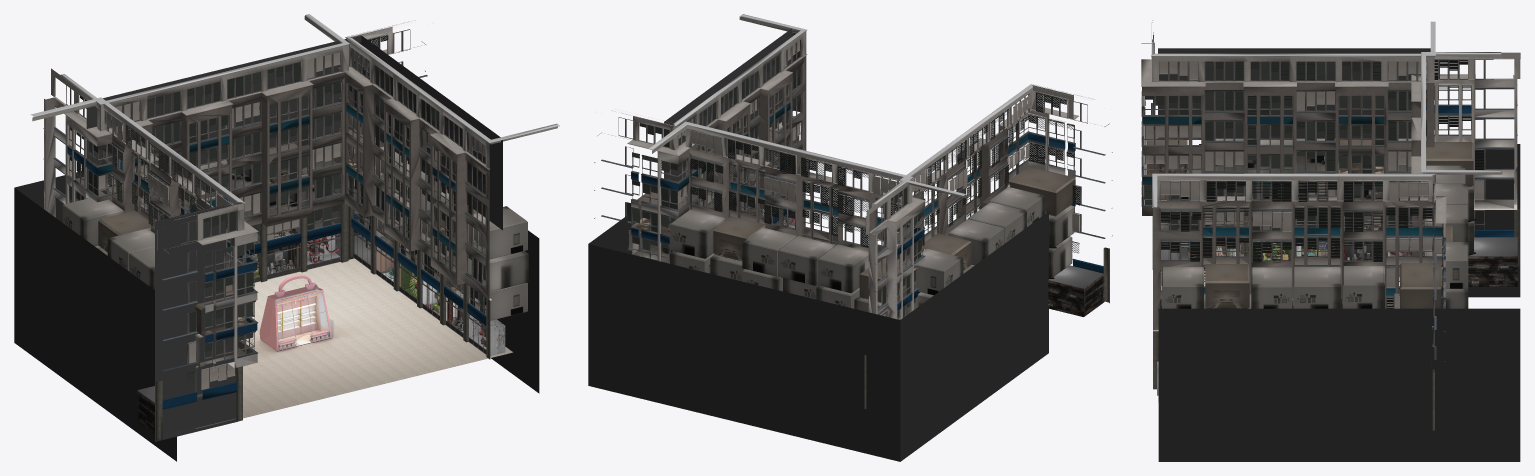
Rendered from Barbie clutch.glb.
The picture shows the model from 3 angles, left to right: view 1: azimuth 30°, elevation 25°; view 2: azimuth 150°, elevation 25°; view 3: azimuth 270°, elevation 25°; orthographic projection. The views are drawn at different scales.
Visible parts, largest first — view 1: AM229_interior_V3_099.002, polySurface58, pPlane1, room, polySurface66.002; view 2: AM229_interior_V3_099.002, polySurface58; view 3: AM229_interior_V3_099.002, polySurface58.
Boxes of the visible parts, box(x1,y1,x2,y2) form: AM229_interior_V3_099.002: box(31, 14, 559, 441); polySurface58: box(14, 145, 539, 461); pPlane1: box(241, 258, 512, 418); room: box(259, 274, 331, 351); polySurface66.002: box(277, 292, 329, 348); AM229_interior_V3_099.002: box(594, 14, 1112, 409); polySurface58: box(588, 211, 1048, 461); AM229_interior_V3_099.002: box(1141, 20, 1520, 430); polySurface58: box(1158, 144, 1520, 461).
Size of the model in its own units: 5.65 by 3.43 by 4.48.
28 materials, 28 textured.
